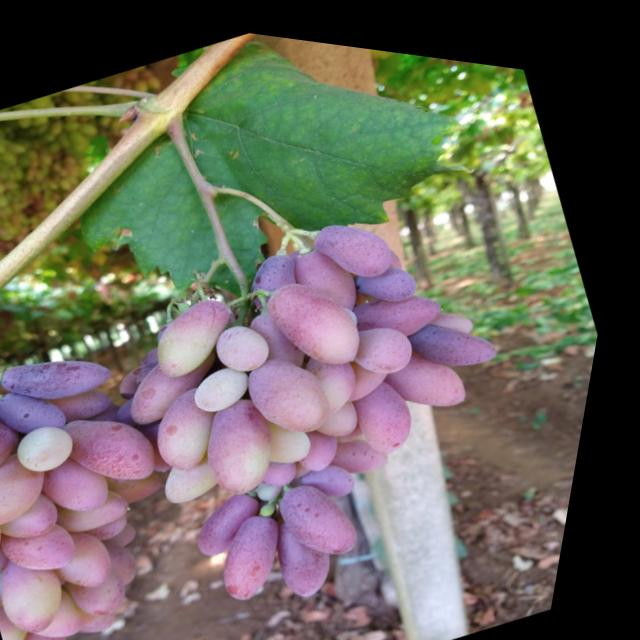grapes: (260, 251, 388, 380), (123, 323, 251, 433), (197, 377, 312, 499), (64, 387, 184, 502), (245, 329, 359, 443), (6, 325, 132, 423), (148, 279, 262, 384), (280, 455, 388, 563), (218, 494, 324, 603), (150, 370, 254, 477), (2, 539, 102, 640), (383, 320, 486, 417), (409, 285, 516, 377), (284, 220, 380, 322), (310, 193, 410, 287), (275, 496, 367, 596), (354, 262, 461, 347), (0, 436, 81, 540), (353, 359, 442, 453), (199, 473, 294, 558), (45, 438, 137, 523), (11, 504, 104, 587), (56, 512, 143, 599), (1, 370, 88, 449), (249, 292, 327, 376), (350, 299, 434, 377), (306, 331, 384, 414), (64, 471, 154, 542), (77, 548, 157, 625), (49, 364, 133, 433), (5, 481, 85, 551), (247, 237, 320, 310), (216, 305, 291, 376), (22, 411, 98, 481), (169, 437, 246, 505), (35, 575, 114, 640), (196, 348, 272, 415), (356, 242, 432, 308), (113, 444, 188, 510), (334, 413, 409, 477), (267, 397, 335, 464), (342, 334, 408, 397), (105, 524, 165, 589), (312, 442, 377, 500), (301, 409, 362, 469), (0, 389, 32, 498), (0, 475, 37, 564), (319, 384, 379, 438), (7, 589, 64, 640), (429, 286, 487, 336), (0, 409, 45, 472), (89, 591, 143, 637), (268, 440, 320, 486), (123, 354, 172, 400), (99, 504, 151, 545), (124, 387, 173, 429), (31, 611, 99, 640), (0, 563, 42, 608), (114, 512, 159, 551), (140, 347, 183, 386), (0, 535, 35, 578), (267, 465, 303, 497), (0, 378, 20, 435), (345, 407, 381, 437), (301, 444, 332, 472), (147, 339, 178, 366), (28, 640, 47, 640)
